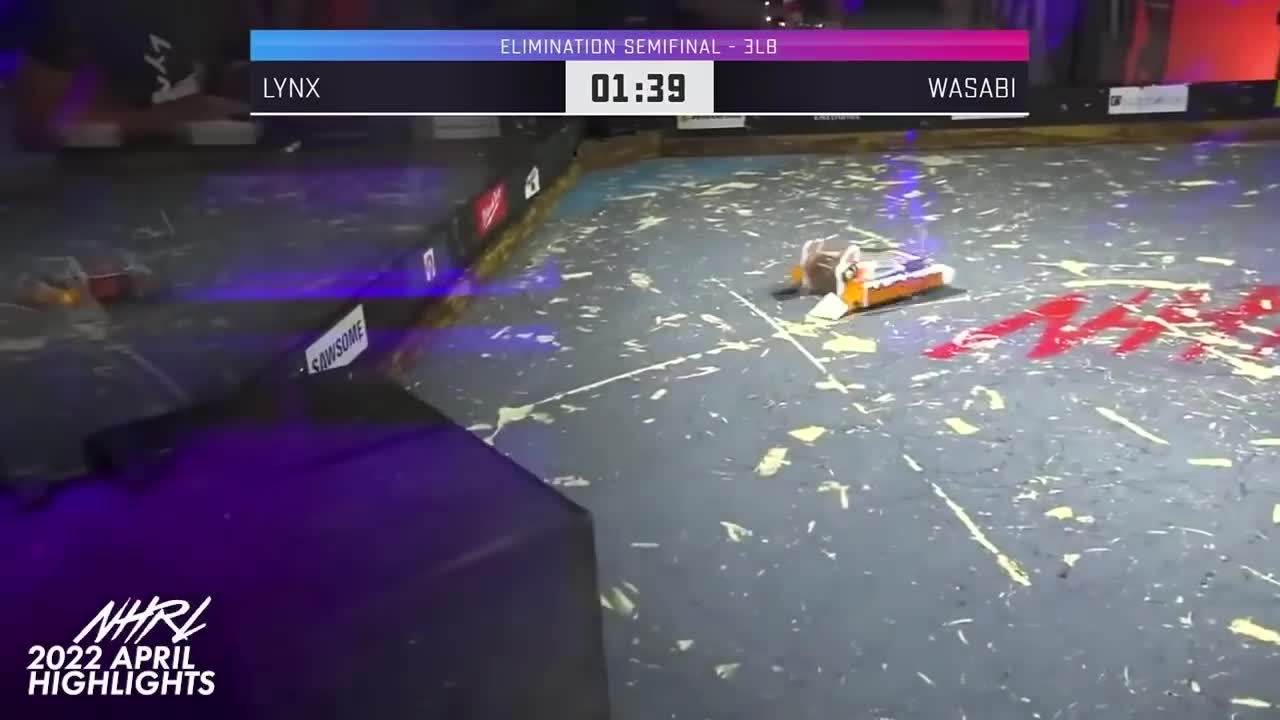combatbot: (768, 235, 954, 321)
housebot: (0, 367, 612, 720)
